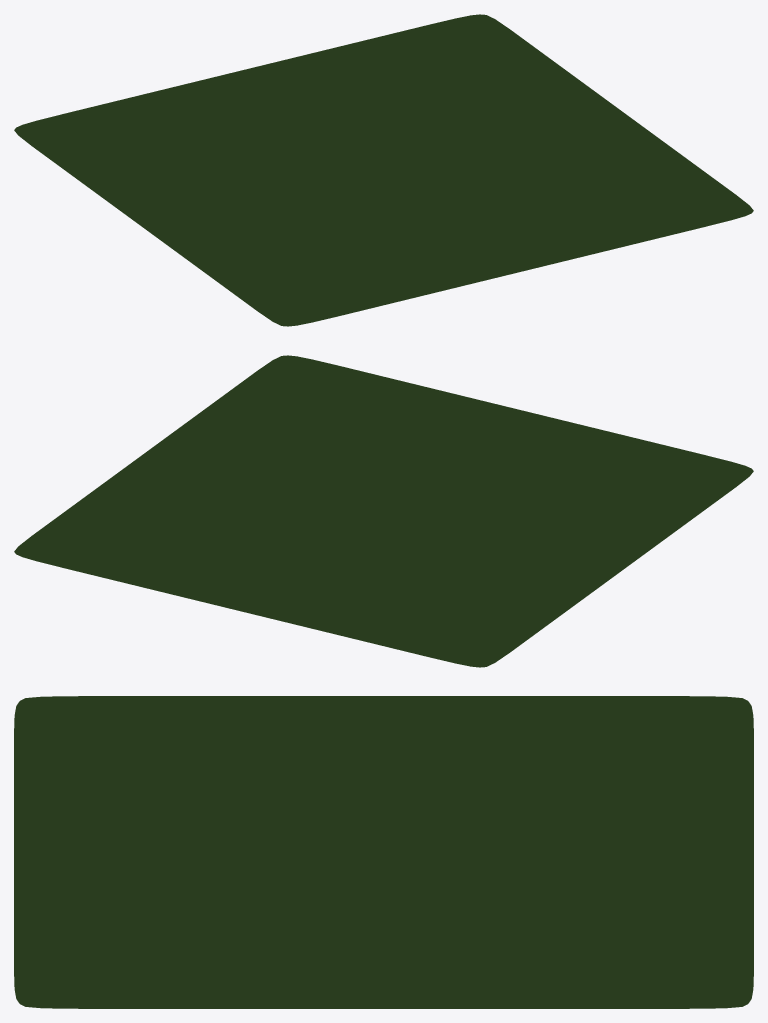
Rendered from Ground.fbx.
3 views of the same model, one above another, from view 1: azimuth 30°, elevation 25°; view 2: azimuth 150°, elevation 25°; view 3: azimuth 270°, elevation 25° (orthographic). The views are drawn at different scales.
Visible parts, largest first — view 1: Ground; view 2: Ground; view 3: Ground.
Boxes of the visible parts, box(x1,y1,x2,y2) form: Ground: box(14, 14, 753, 326); Ground: box(14, 355, 753, 667); Ground: box(14, 696, 753, 1008).
Size of the model in its own units: 3434 by 0.000121 by 3434.
